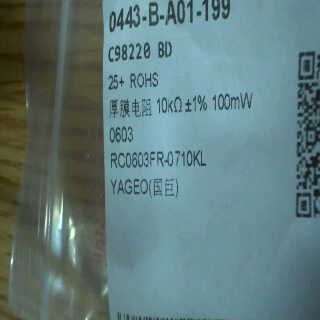10kR: (153, 92, 183, 116)
